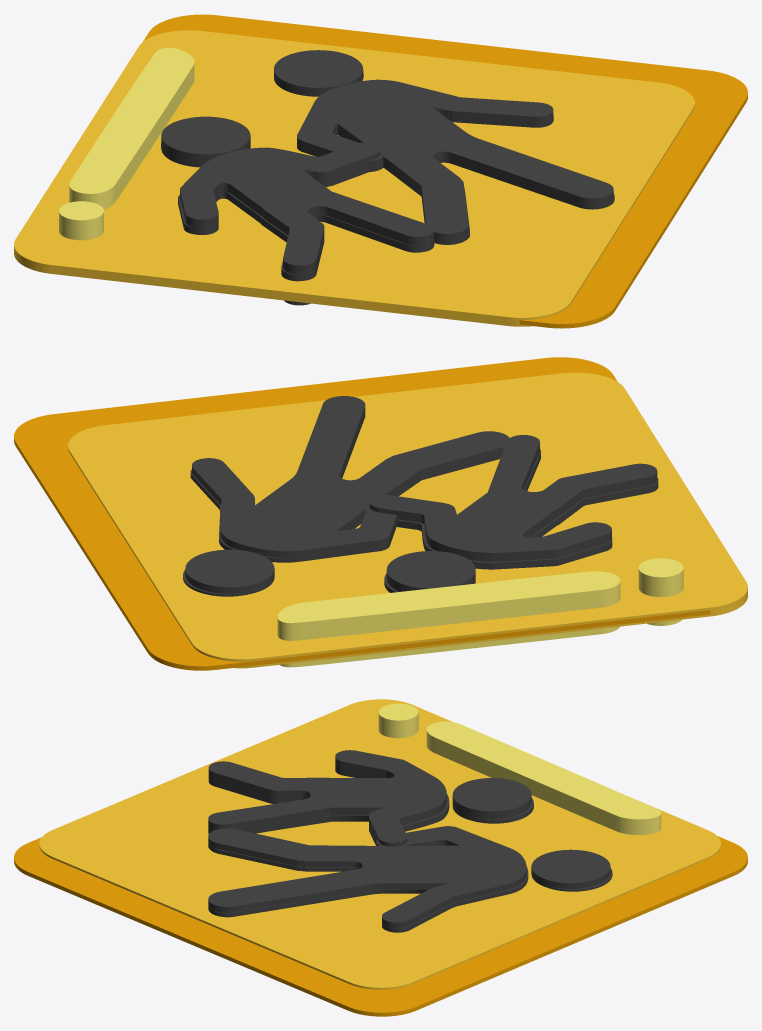
Rendered from emoji_u1f6b8.glb.
The picture shows the model from 3 angles, top to bottom: view 1: azimuth 30°, elevation 25°; view 2: azimuth 150°, elevation 25°; view 3: azimuth 270°, elevation 25°; orthographic projection. The views are drawn at different scales.
Visible parts, largest first — view 1: emoji_u1f6b8; view 2: emoji_u1f6b8; view 3: emoji_u1f6b8.
Boxes of the visible parts, x1,y1,x2,y2 form: emoji_u1f6b8: (14, 14, 747, 328); emoji_u1f6b8: (14, 357, 747, 670); emoji_u1f6b8: (14, 699, 747, 1016).
Size of the model in its own units: 0.034 by 0.0022 by 0.0339.
